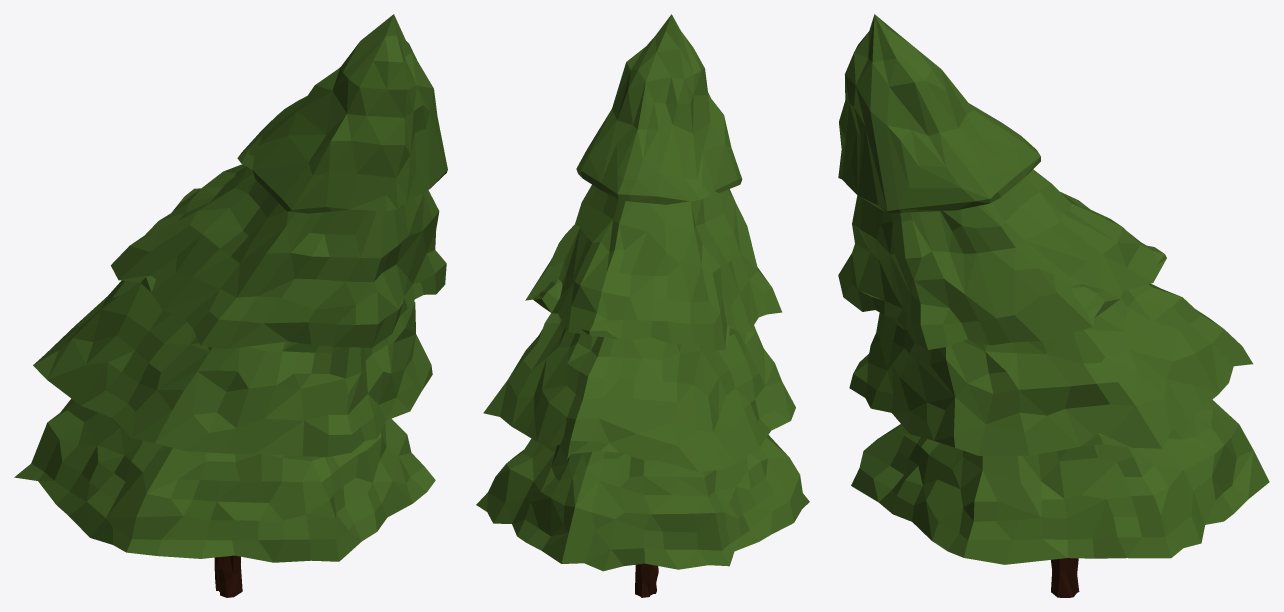
File: Arbol 3.fbx
3 views of the same model, side by side, from view 1: azimuth 30°, elevation 25°; view 2: azimuth 150°, elevation 25°; view 3: azimuth 270°, elevation 25° (orthographic). The views are drawn at different scales.
Visible parts, largest first — view 1: Arbol 3_LOD0; view 2: Arbol 3_LOD0; view 3: Arbol 3_LOD0.
Part boxes in pixels (x1,y1,x2,y2): Arbol 3_LOD0: [14, 14, 447, 597]; Arbol 3_LOD0: [476, 14, 809, 597]; Arbol 3_LOD0: [838, 14, 1269, 597].
Size of what is drawn, in the model's own units: 171 by 321 by 206.
